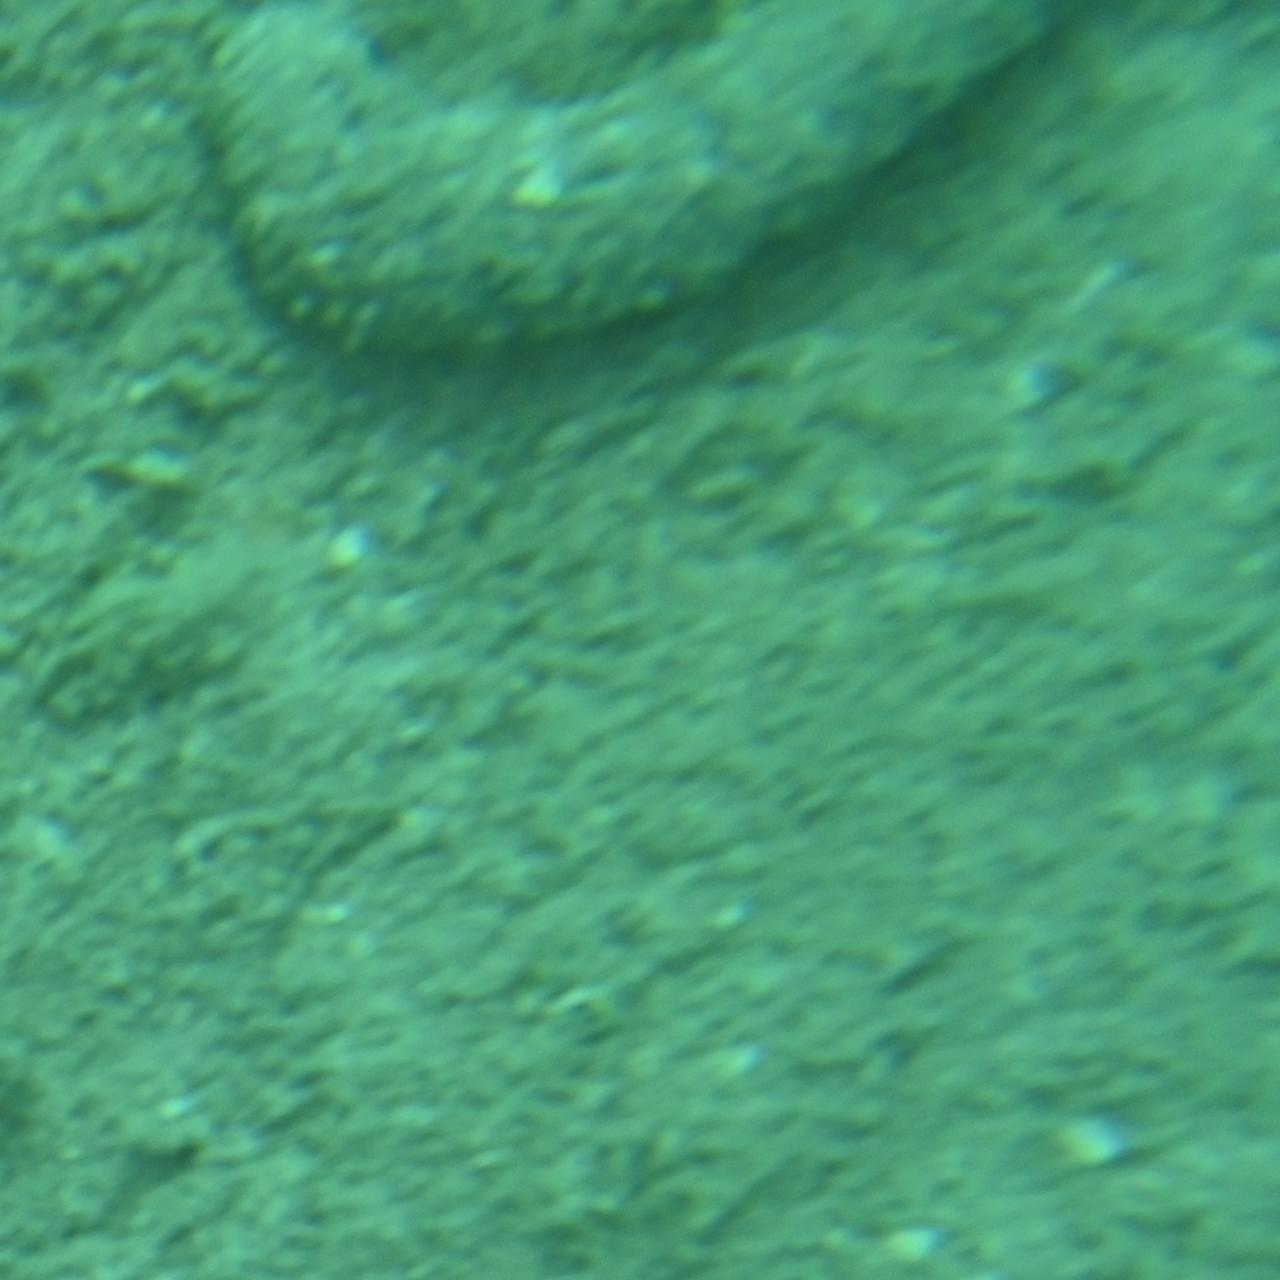Holothuria tubulosa: (196, 1, 1084, 401)
